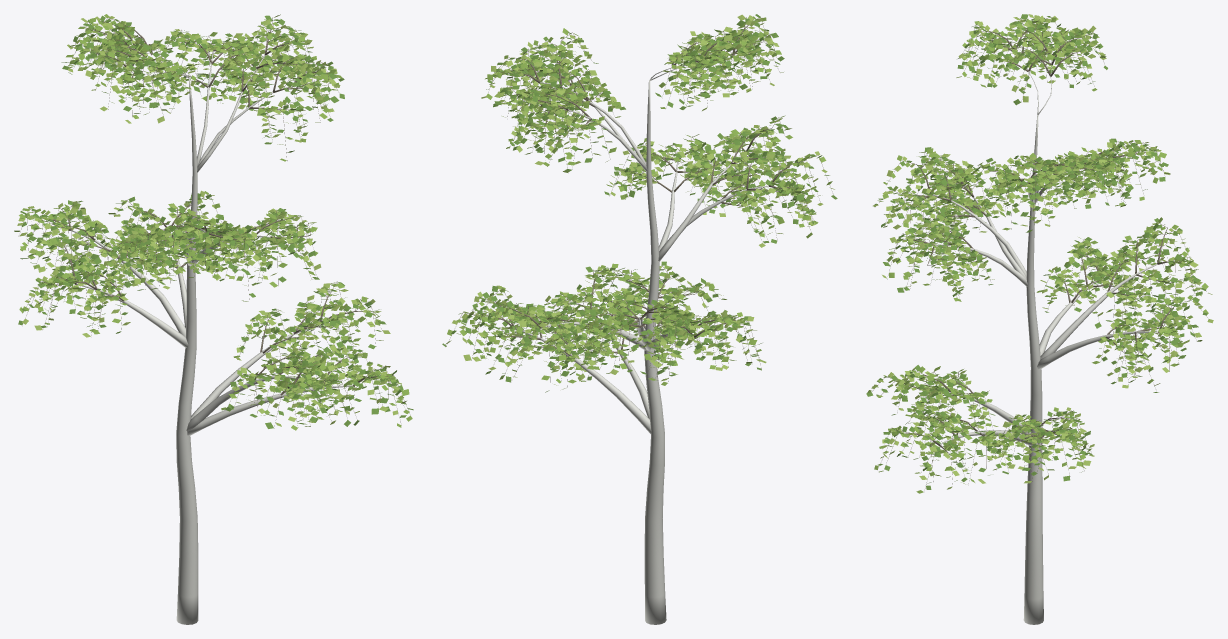
File: mature-silver-birch.glb
3 renders of one model, left to right at view 1: azimuth 30°, elevation 25°; view 2: azimuth 150°, elevation 25°; view 3: azimuth 270°, elevation 25°, orthographic. The views are drawn at different scales.
Visible parts, largest first — view 1: silver_birch connected crown 3, silver_birch connected crown 1, silver_birch connected crown 2, silver_birch irregular trunk, silver_birch attached fine twigs, silver_birch spreading bough 6, silver_birch spreading bough 7, silver_birch spreading bough 1, silver_birch spreading bough 2, silver_birch spreading bough 11; view 2: silver_birch connected crown 1, silver_birch connected crown 2, silver_birch connected crown 3, silver_birch irregular trunk, silver_birch attached fine twigs, silver_birch spreading bough 1, silver_birch spreading bough 8; view 3: silver_birch connected crown 2, silver_birch connected crown 3, silver_birch connected crown 1, silver_birch irregular trunk, silver_birch attached fine twigs, silver_birch spreading bough 7, silver_birch spreading bough 12.
Boxes of the visible parts, x1,y1,x2,y2 form: silver_birch connected crown 3: [17, 14, 406, 426]; silver_birch connected crown 1: [18, 15, 413, 428]; silver_birch connected crown 2: [14, 14, 412, 430]; silver_birch irregular trunk: [176, 78, 198, 624]; silver_birch attached fine twigs: [18, 17, 409, 428]; silver_birch spreading bough 6: [187, 385, 352, 435]; silver_birch spreading bough 7: [70, 230, 185, 336]; silver_birch spreading bough 1: [191, 324, 315, 418]; silver_birch spreading bough 2: [76, 284, 188, 347]; silver_birch spreading bough 11: [186, 376, 296, 431]; silver_birch connected crown 1: [442, 14, 837, 392]; silver_birch connected crown 2: [447, 16, 832, 385]; silver_birch connected crown 3: [445, 14, 834, 389]; silver_birch irregular trunk: [644, 81, 666, 624]; silver_birch attached fine twigs: [446, 17, 833, 387]; silver_birch spreading bough 1: [515, 328, 651, 434]; silver_birch spreading bough 8: [658, 156, 740, 261]; silver_birch connected crown 2: [867, 17, 1208, 493]; silver_birch connected crown 3: [871, 14, 1213, 489]; silver_birch connected crown 1: [866, 14, 1207, 489]; silver_birch irregular trunk: [1023, 115, 1043, 624]; silver_birch attached fine twigs: [872, 17, 1207, 488]; silver_birch spreading bough 7: [1040, 264, 1157, 359]; silver_birch spreading bough 12: [1037, 331, 1157, 369].
Bounding box in the file's own units: 8.19 × 14 × 7.79.
5 materials, 5 textured.
